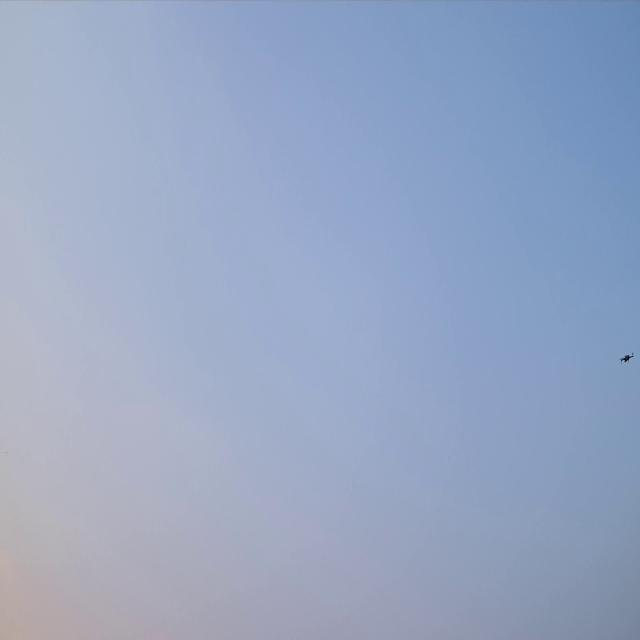UAV: (621, 353, 633, 362)
